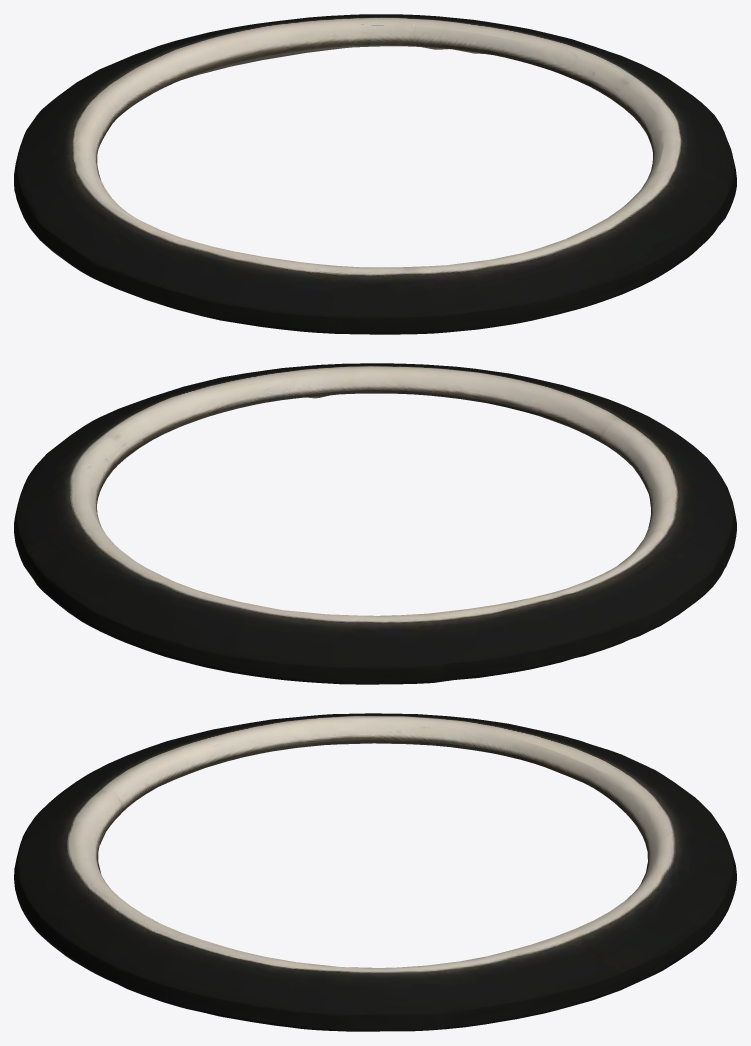
File: m2ZonePlate.glb
3 views of the same model, one above another, from view 1: azimuth 30°, elevation 25°; view 2: azimuth 150°, elevation 25°; view 3: azimuth 270°, elevation 25° (orthographic).
Visible parts, largest first — view 1: model; view 2: model; view 3: model.
Part boxes in pixels (x1,y1,x2,y2): model: [14, 14, 736, 334]; model: [14, 363, 736, 684]; model: [14, 713, 736, 1031].
Bounding box in the file's own units: 1.9 × 0.1174 × 1.9.
1 material, 1 textured.
